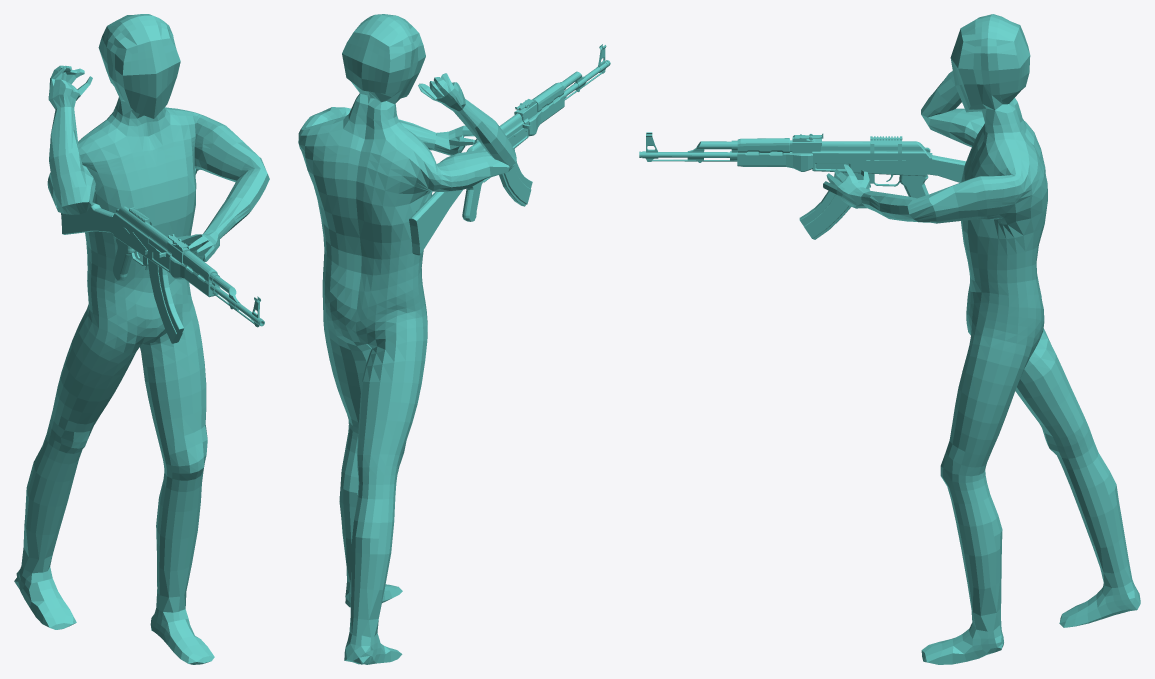
The model's file is playerStey.obj.
3 renders of one model, left to right at view 1: azimuth 30°, elevation 25°; view 2: azimuth 150°, elevation 25°; view 3: azimuth 270°, elevation 25°, orthographic. The views are drawn at different scales.
Parts seen in each view (by area): view 1: Cube_Cube.001; view 2: Cube_Cube.001; view 3: Cube_Cube.001.
Part boxes in pixels (x1,y1,x2,y2): Cube_Cube.001: (14, 14, 269, 664); Cube_Cube.001: (298, 14, 610, 664); Cube_Cube.001: (639, 14, 1140, 664).
Bounding box in the file's own units: 0.6863 × 2.06 × 1.49.
Materials: 1 (1 with a texture image).
